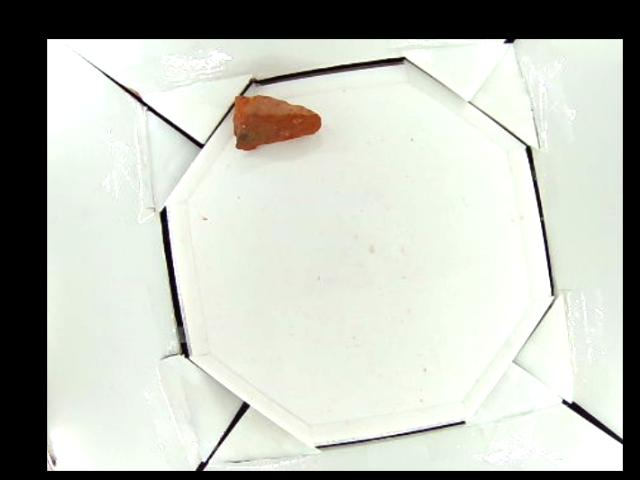Brisk: (232, 94, 321, 149)
